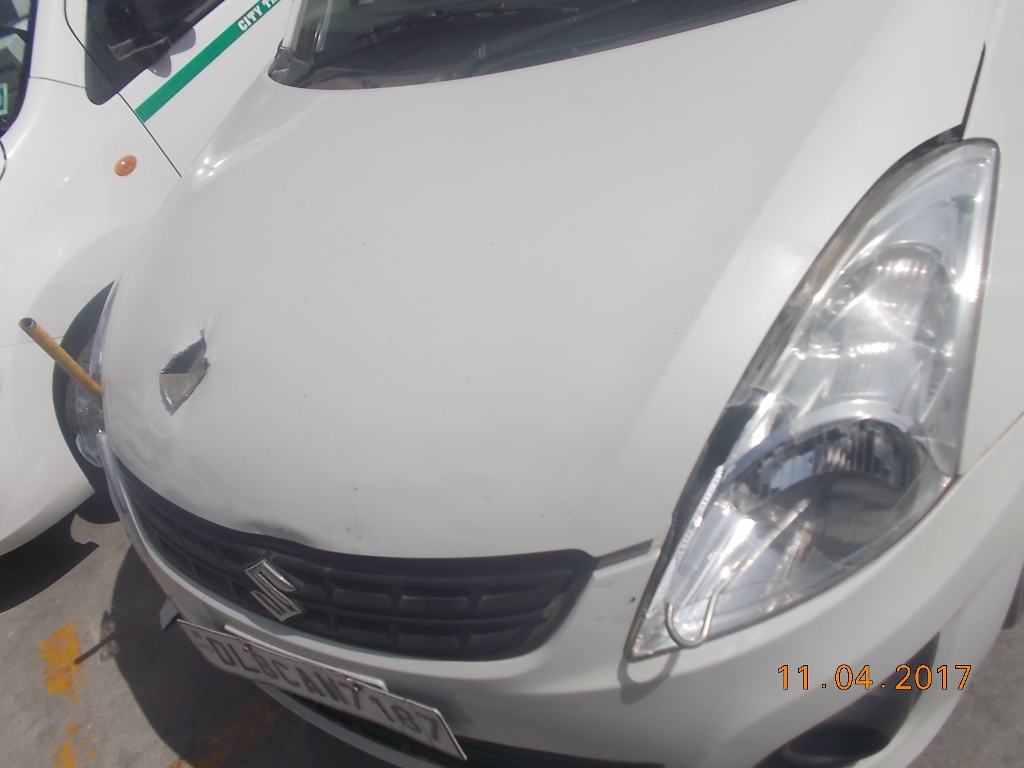Tear: (150, 336, 211, 426)
